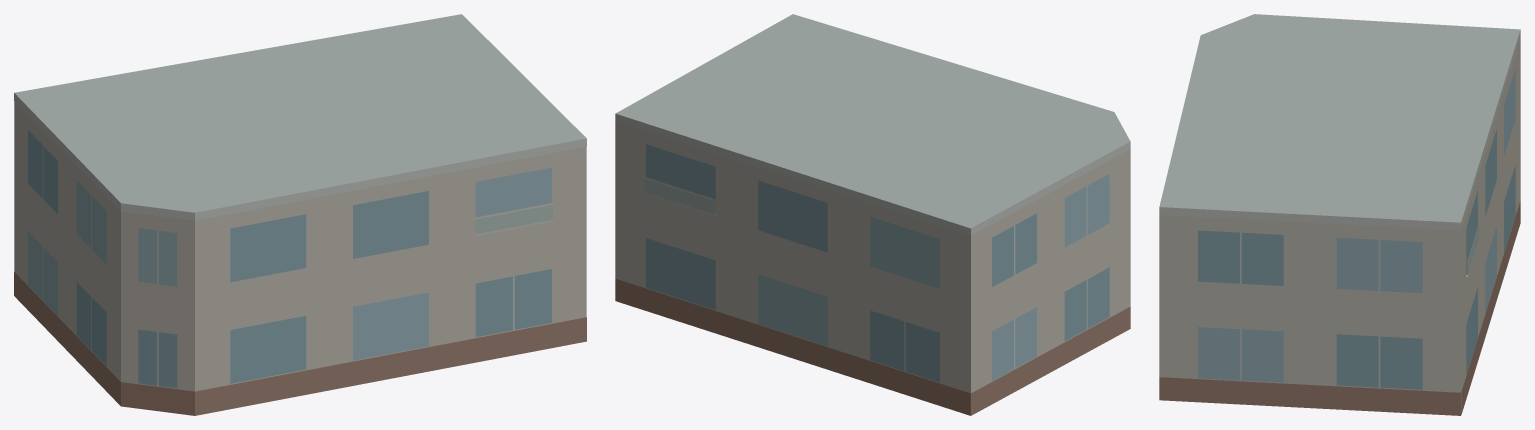
The model's file is survey-upis-32868715.glb.
3 renders of one model, left to right at view 1: azimuth 30°, elevation 25°; view 2: azimuth 150°, elevation 25°; view 3: azimuth 270°, elevation 25°, orthographic. The views are drawn at different scales.
Visible parts, largest first — view 1: survey-upis-32868715.tmp; view 2: survey-upis-32868715.tmp; view 3: survey-upis-32868715.tmp.
Boxes of the visible parts, x1,y1,x2,y2 form: survey-upis-32868715.tmp: (14,14,586,415); survey-upis-32868715.tmp: (615,14,1130,415); survey-upis-32868715.tmp: (1159,14,1520,415).
Bounding box in the file's own units: 14.14 × 6.1 × 10.35.
